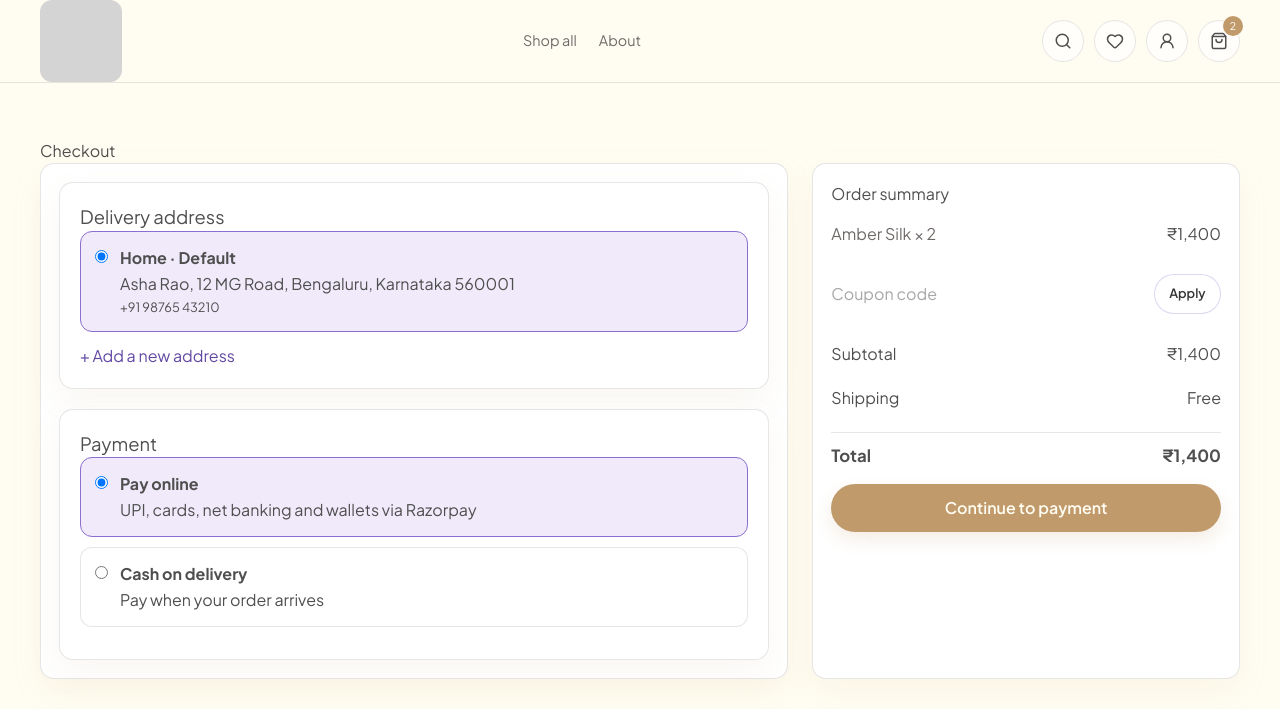
Scenario: checkout › places a COD order once, even when clicked twice, and shows the confirmation
Step 1. Click the radio button labelled "Cash on delivery Pay when your order arrives" → (102, 573), box [95,566,108,579]
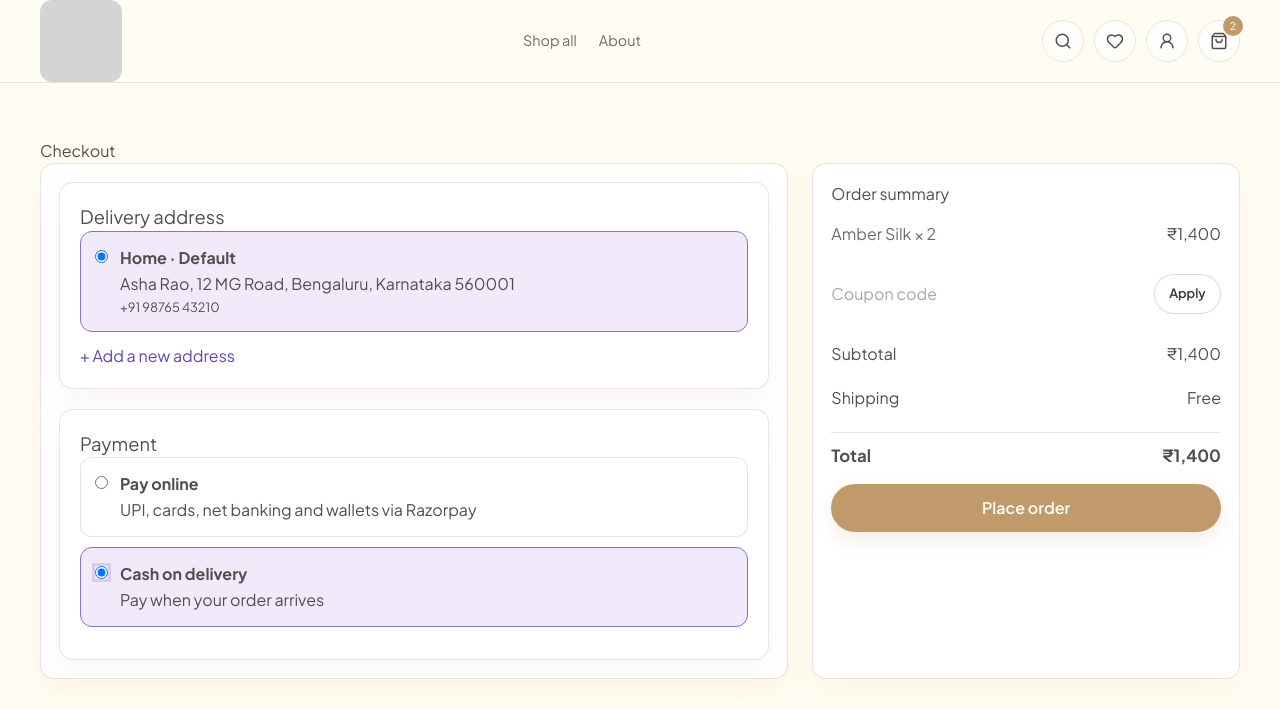
Step 2. Click the button "Place order" → (1026, 508), box [831,484,1221,532]
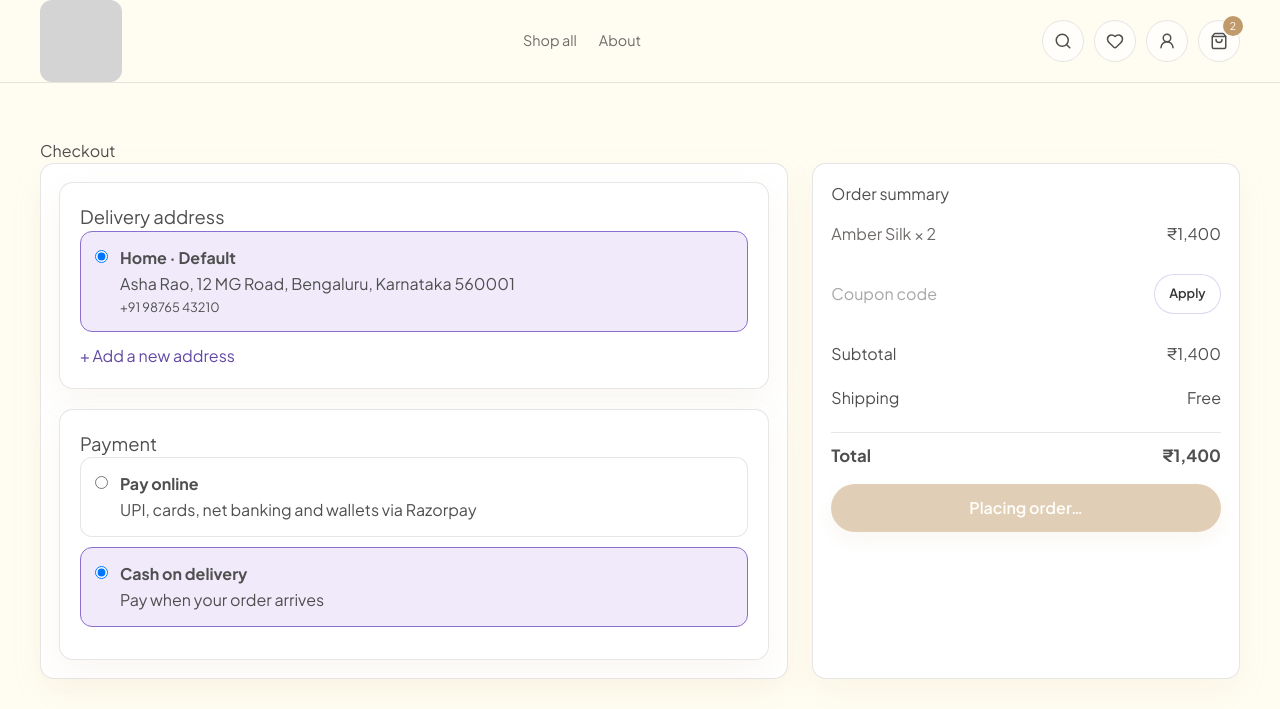
Step 3. Click the button named "Place order" → (1026, 508), box [831,484,1221,532]
(page scrolled)
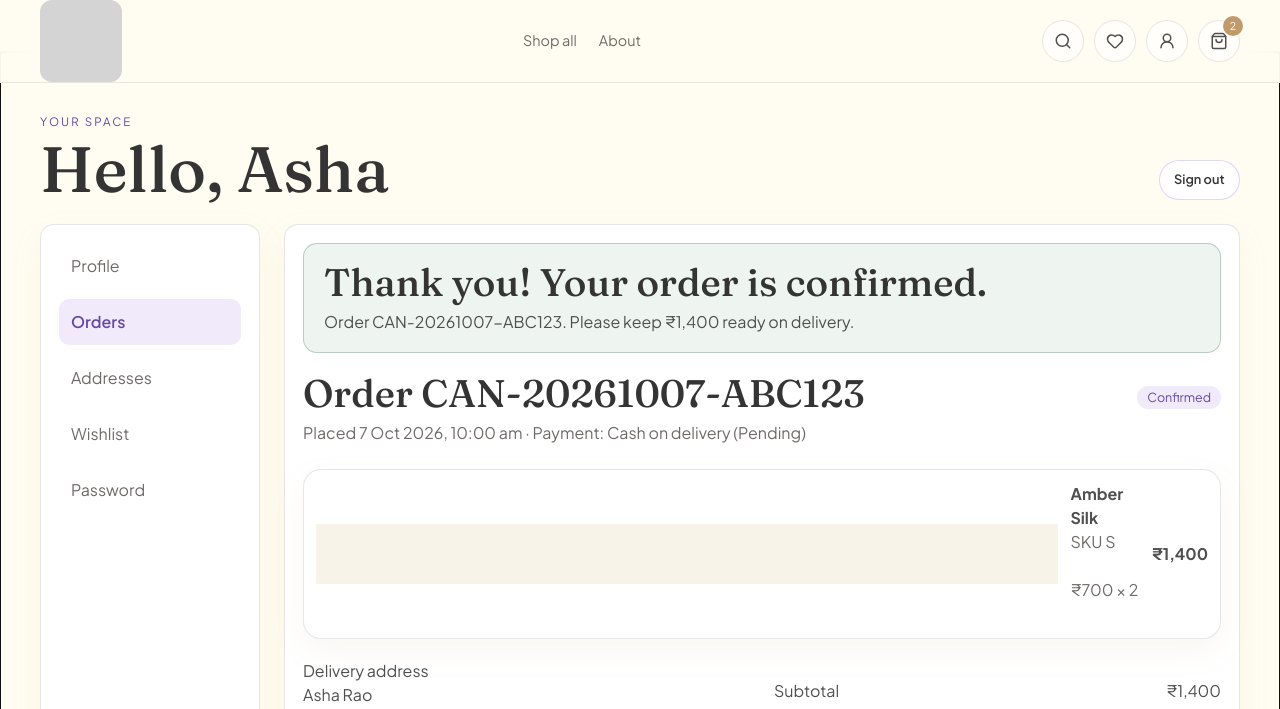
Now the heading "Thank you! Your order is confirmed." is shown, box [324,258,987,306]
